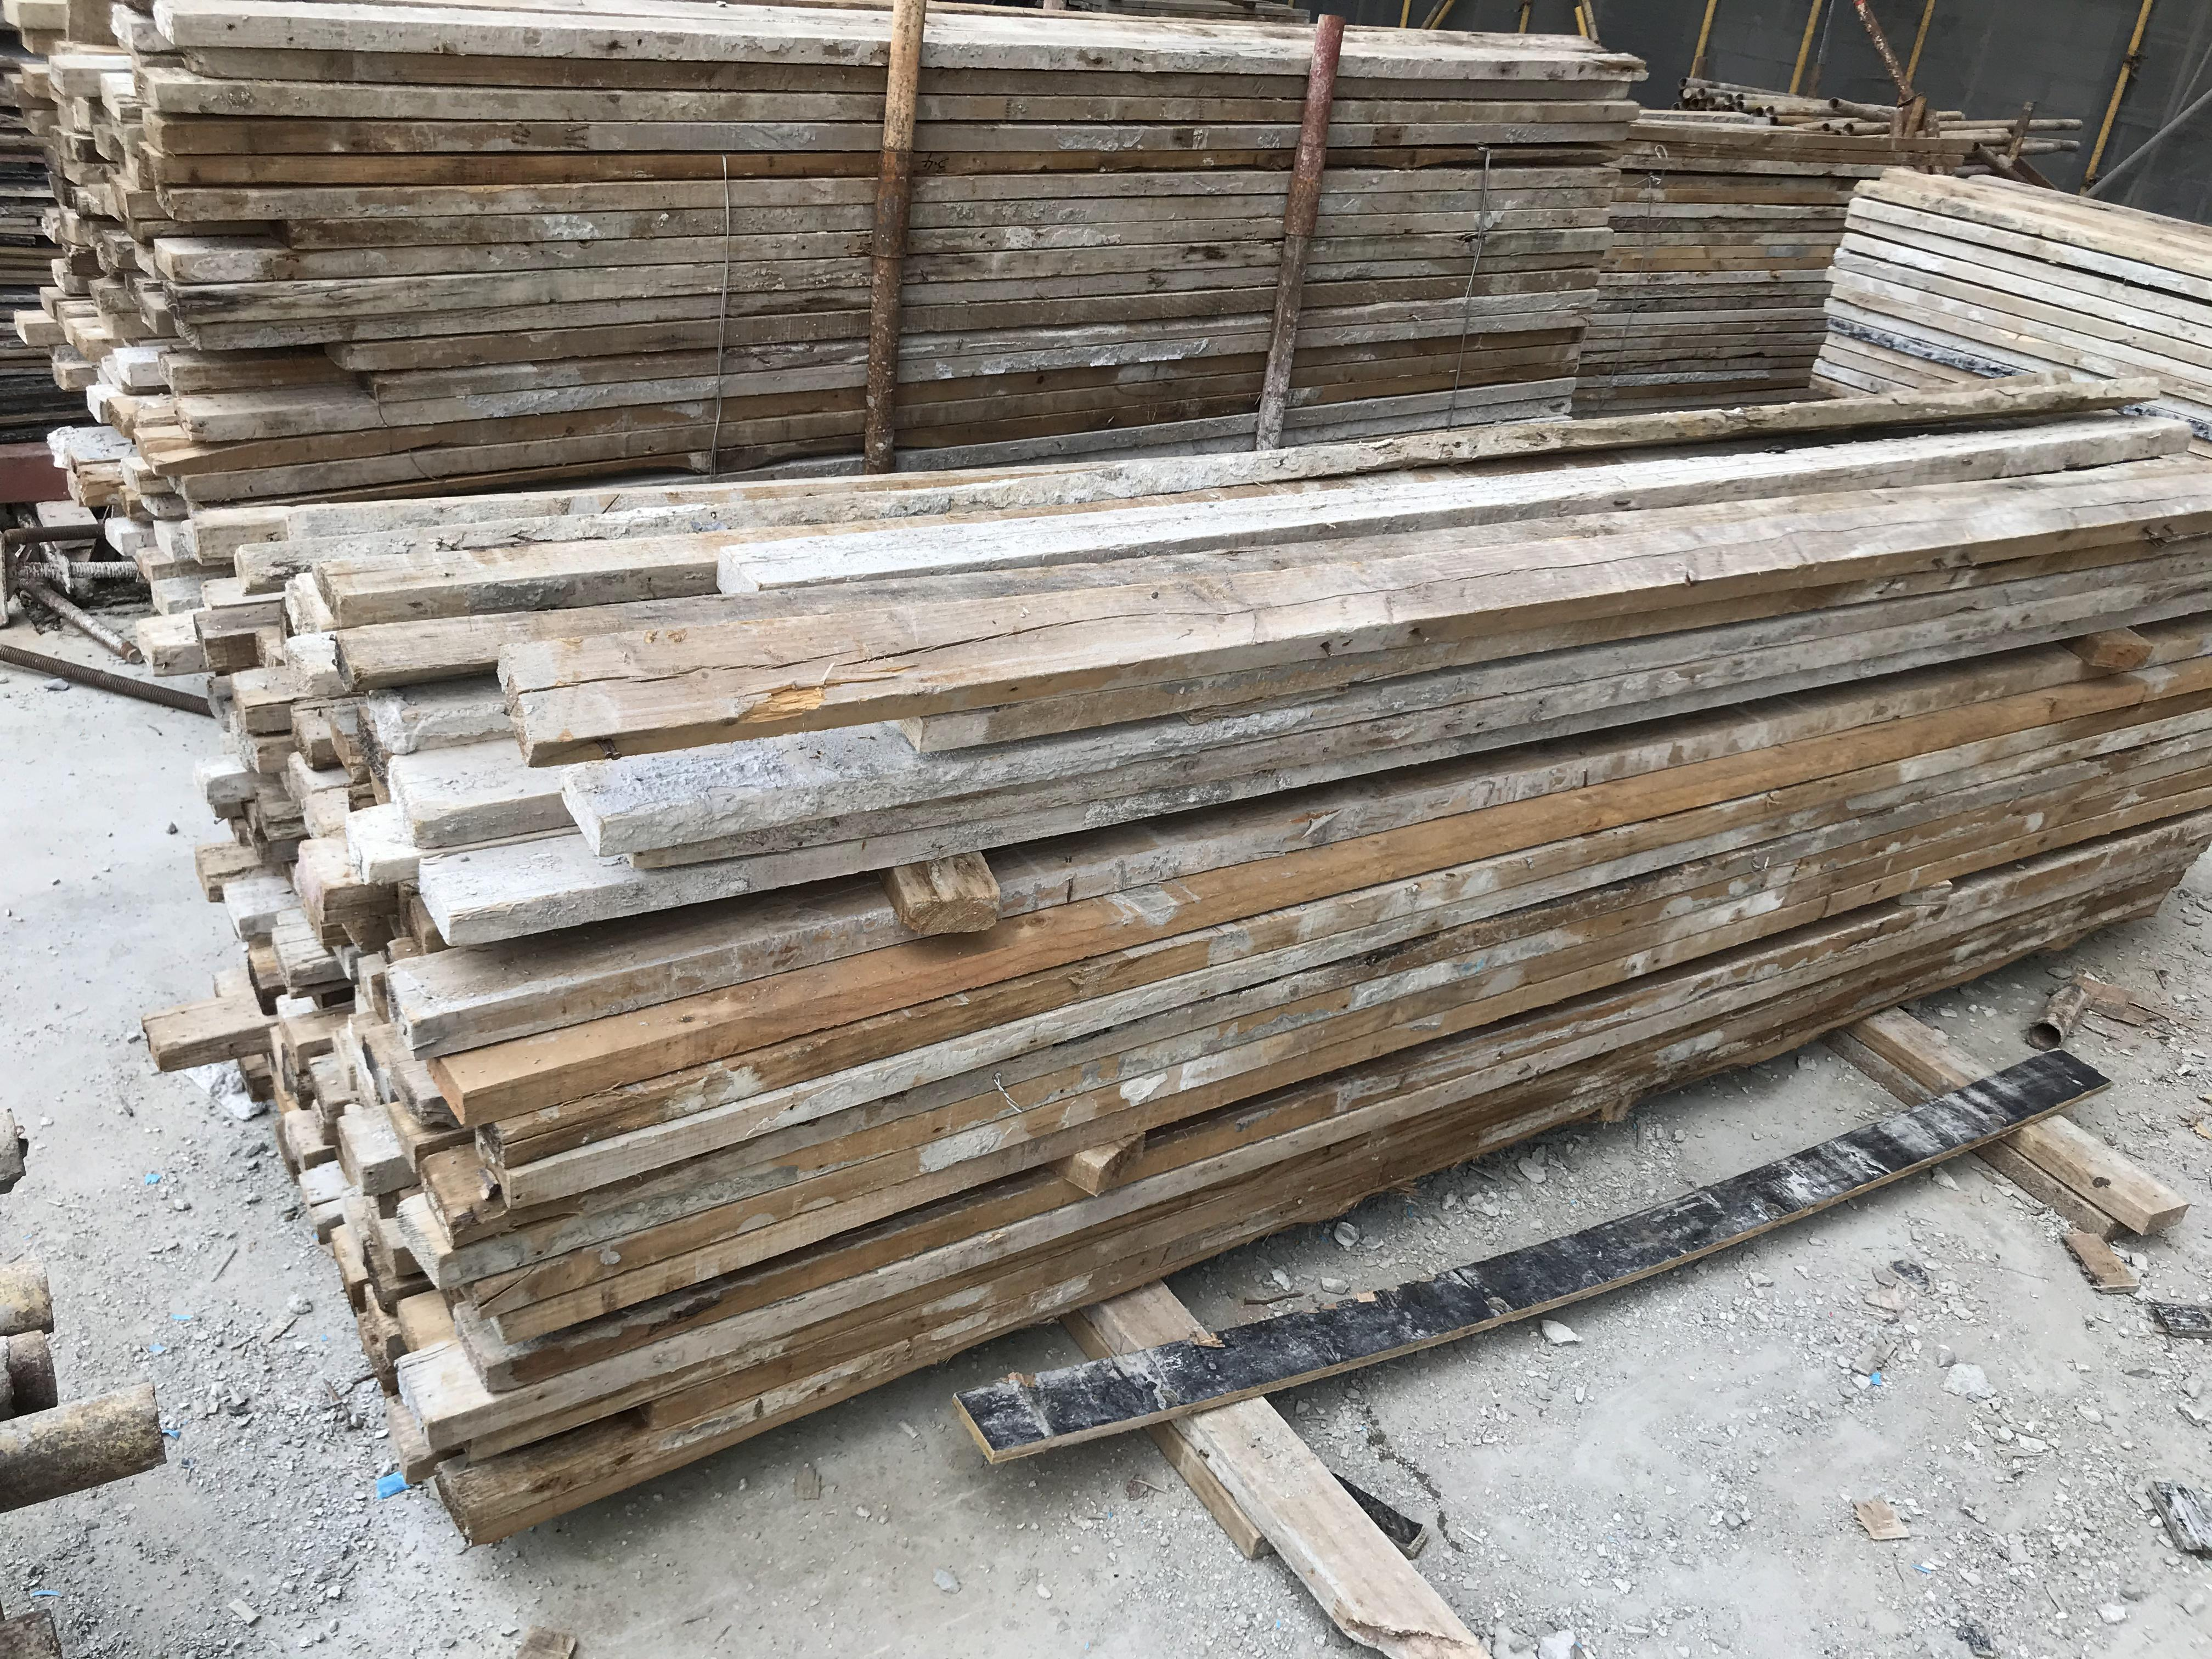wood: (193, 366, 2212, 1537), (14, 0, 1663, 657), (1576, 119, 1975, 416), (1810, 174, 2212, 403)
